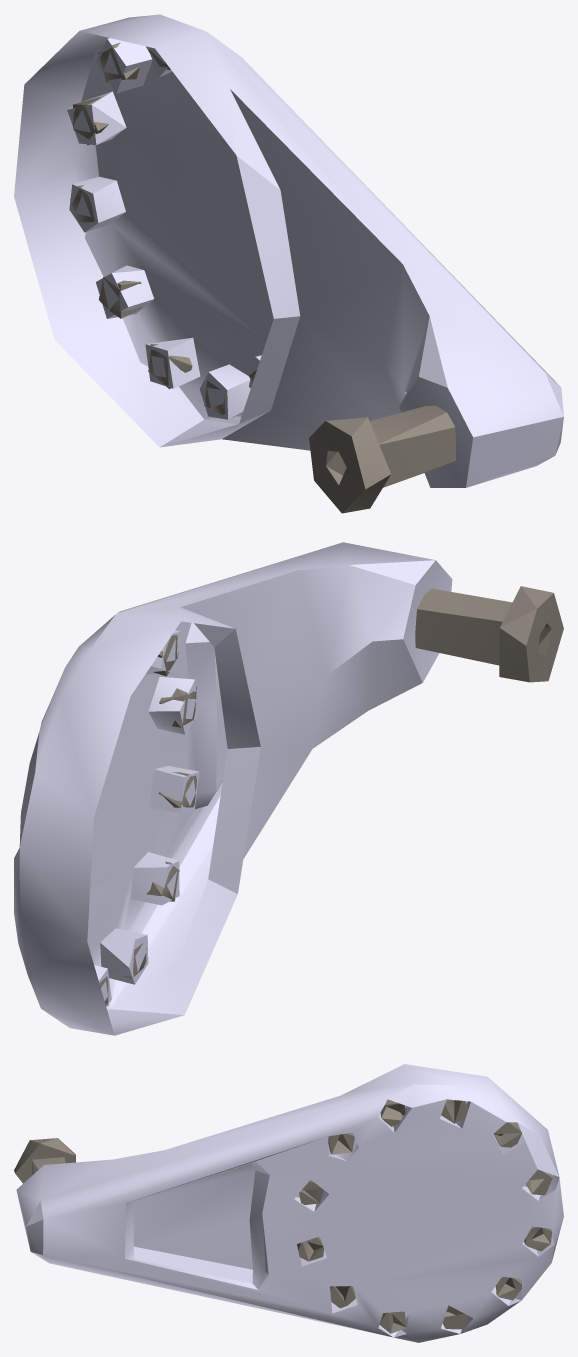
Rendered from right-foot-crank.obj.
3 views of the same model, one above another, from view 1: azimuth 30°, elevation 25°; view 2: azimuth 150°, elevation 25°; view 3: azimuth 270°, elevation 25° (orthographic). The views are drawn at different scales.
Parts seen in each view (by area): view 1: right_foot_crank; view 2: right_foot_crank; view 3: right_foot_crank.
Part boxes in pixels (box(x1,y1,x2,y2)): right_foot_crank: box(14, 14, 563, 513); right_foot_crank: box(14, 542, 563, 1035); right_foot_crank: box(14, 1064, 563, 1342).
Size of the model in its own units: 0.0263 by 0.0437 by 0.0834.
1 material, 1 textured.
